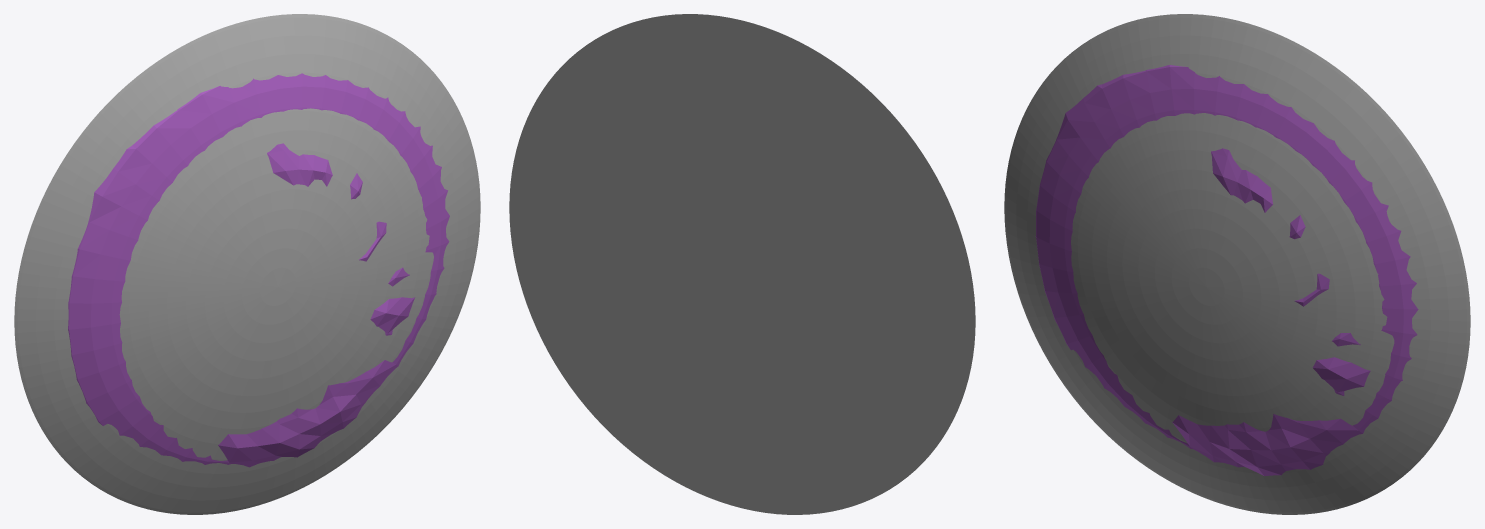
File: G06_A2_ALIGNED_GT.glb
3 views of the same model, side by side, from view 1: azimuth 30°, elevation 25°; view 2: azimuth 150°, elevation 25°; view 3: azimuth 330°, elevation 25° (orthographic).
Parts seen in each view (by area): view 1: Independent_GT, A2; view 2: Independent_GT; view 3: Independent_GT, A2.
Boxes of the visible parts, box(x1,y1,x2,y2) form: Independent_GT: box(14, 14, 480, 514); A2: box(68, 73, 449, 467); Independent_GT: box(509, 14, 975, 514); Independent_GT: box(1004, 14, 1470, 514); A2: box(1035, 65, 1418, 476).
Bounding box in the file's own units: 0.014 × 0.014 × 0.00169.
